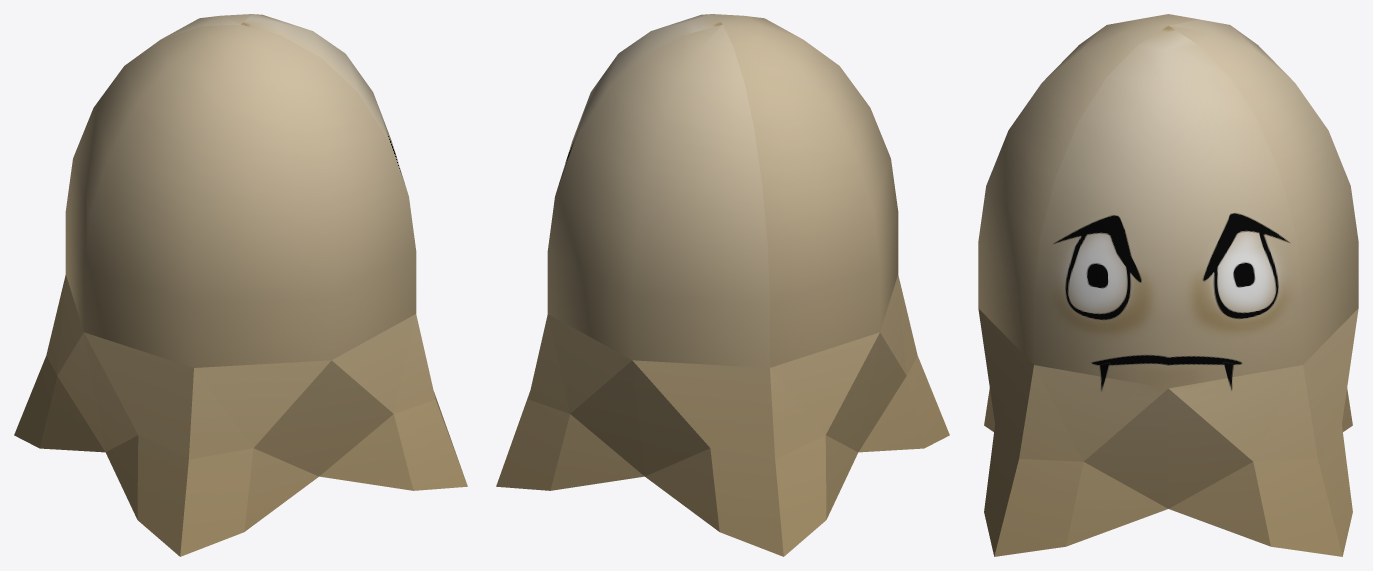
Rendered from Ghost2.fbx.
3 renders of one model, left to right at view 1: azimuth 30°, elevation 25°; view 2: azimuth 150°, elevation 25°; view 3: azimuth 270°, elevation 25°, orthographic. The views are drawn at different scales.
Parts seen in each view (by area): view 1: ChamferCyl003; view 2: ChamferCyl003; view 3: ChamferCyl003.
Part boxes in pixels (x1,y1,x2,y2): ChamferCyl003: (14,14,467,556); ChamferCyl003: (496,14,949,556); ChamferCyl003: (978,14,1358,556).
Size of the model in its own units: 5.58 by 7.4 by 5.58.
Materials: 1 (1 with a texture image).
